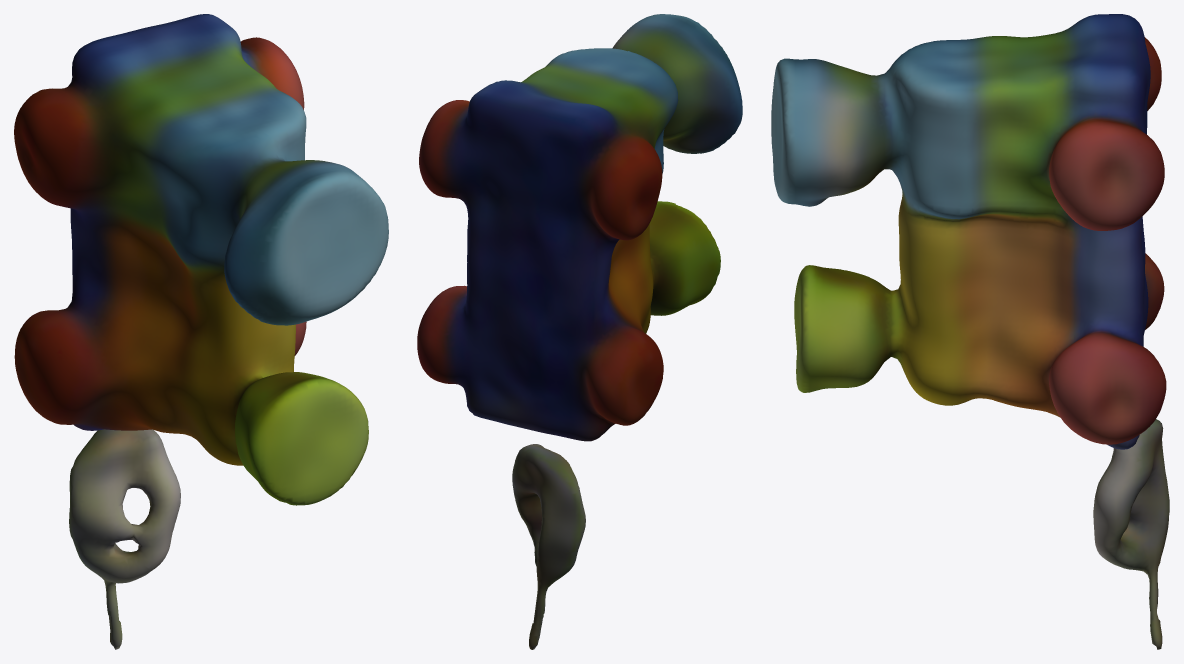
Rendered from train.glb.
The picture shows the model from 3 angles, left to right: view 1: azimuth 30°, elevation 25°; view 2: azimuth 150°, elevation 25°; view 3: azimuth 270°, elevation 25°; orthographic projection. The views are drawn at different scales.
Bounding box in the file's own units: 0.4431 × 0.9981 × 0.586.
